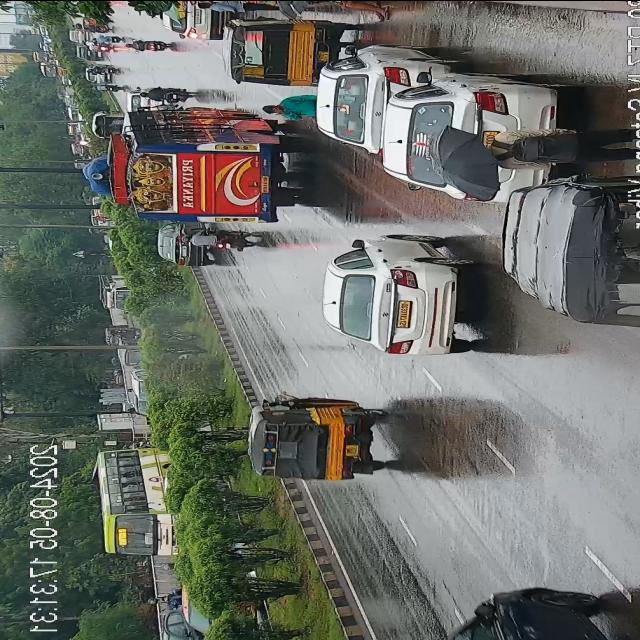2-wheelers: (180, 225, 260, 252), (140, 83, 196, 105), (124, 38, 172, 50), (86, 64, 120, 74), (93, 34, 123, 42), (92, 84, 124, 90)
auto: (494, 175, 640, 329), (246, 395, 374, 485), (226, 18, 326, 91)
bus: (113, 106, 284, 224), (99, 439, 185, 560)
car: (328, 234, 472, 358), (387, 66, 485, 200), (317, 46, 433, 146), (458, 585, 614, 640), (164, 0, 222, 40), (162, 225, 210, 268), (162, 610, 208, 640)
pedestrian: (426, 124, 640, 178), (310, 0, 392, 22), (261, 98, 317, 119), (196, 0, 285, 13)
truck: (93, 110, 122, 138)
